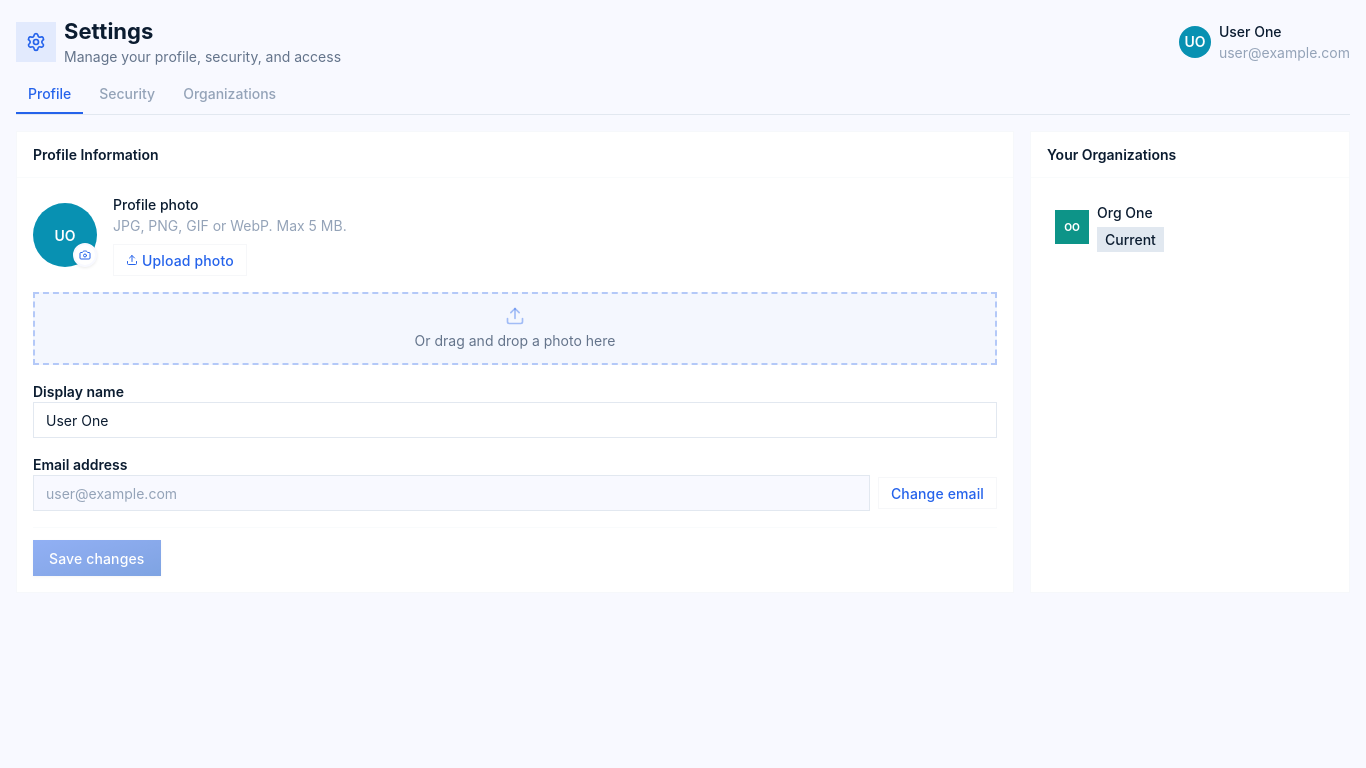
it: SettingsPage › switches to Security tab
Step 1. Click the tab "Security" → (127, 99), box left=87, top=83, right=167, bottom=114
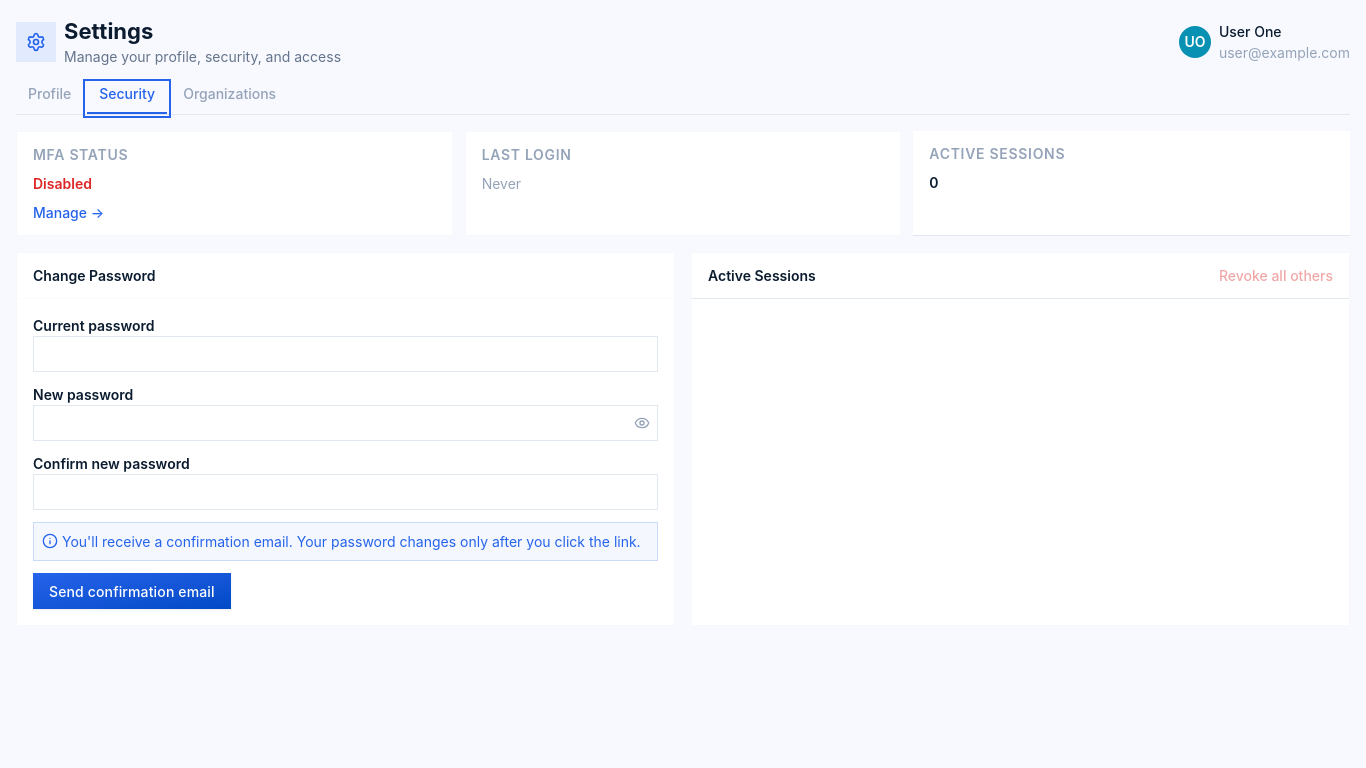
Check: the text "Change Password" is shown, box left=33, top=267, right=155, bottom=284
